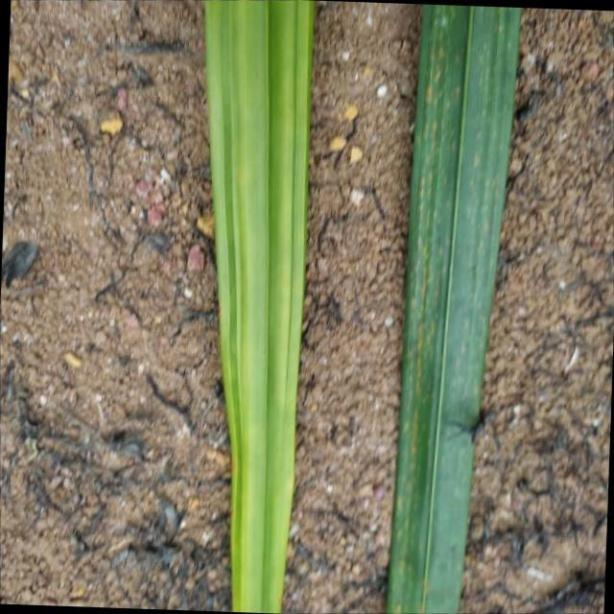nitrogen: (198, 0, 317, 614)
